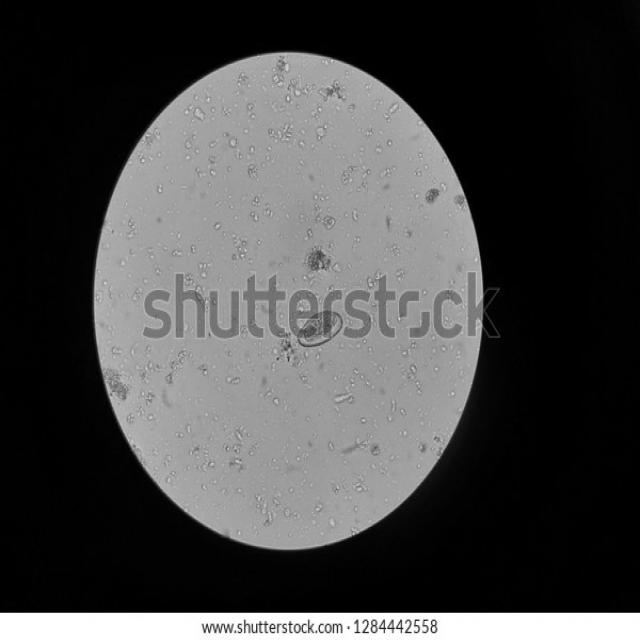Enterobius Vermicularis: (296, 307, 344, 347)
